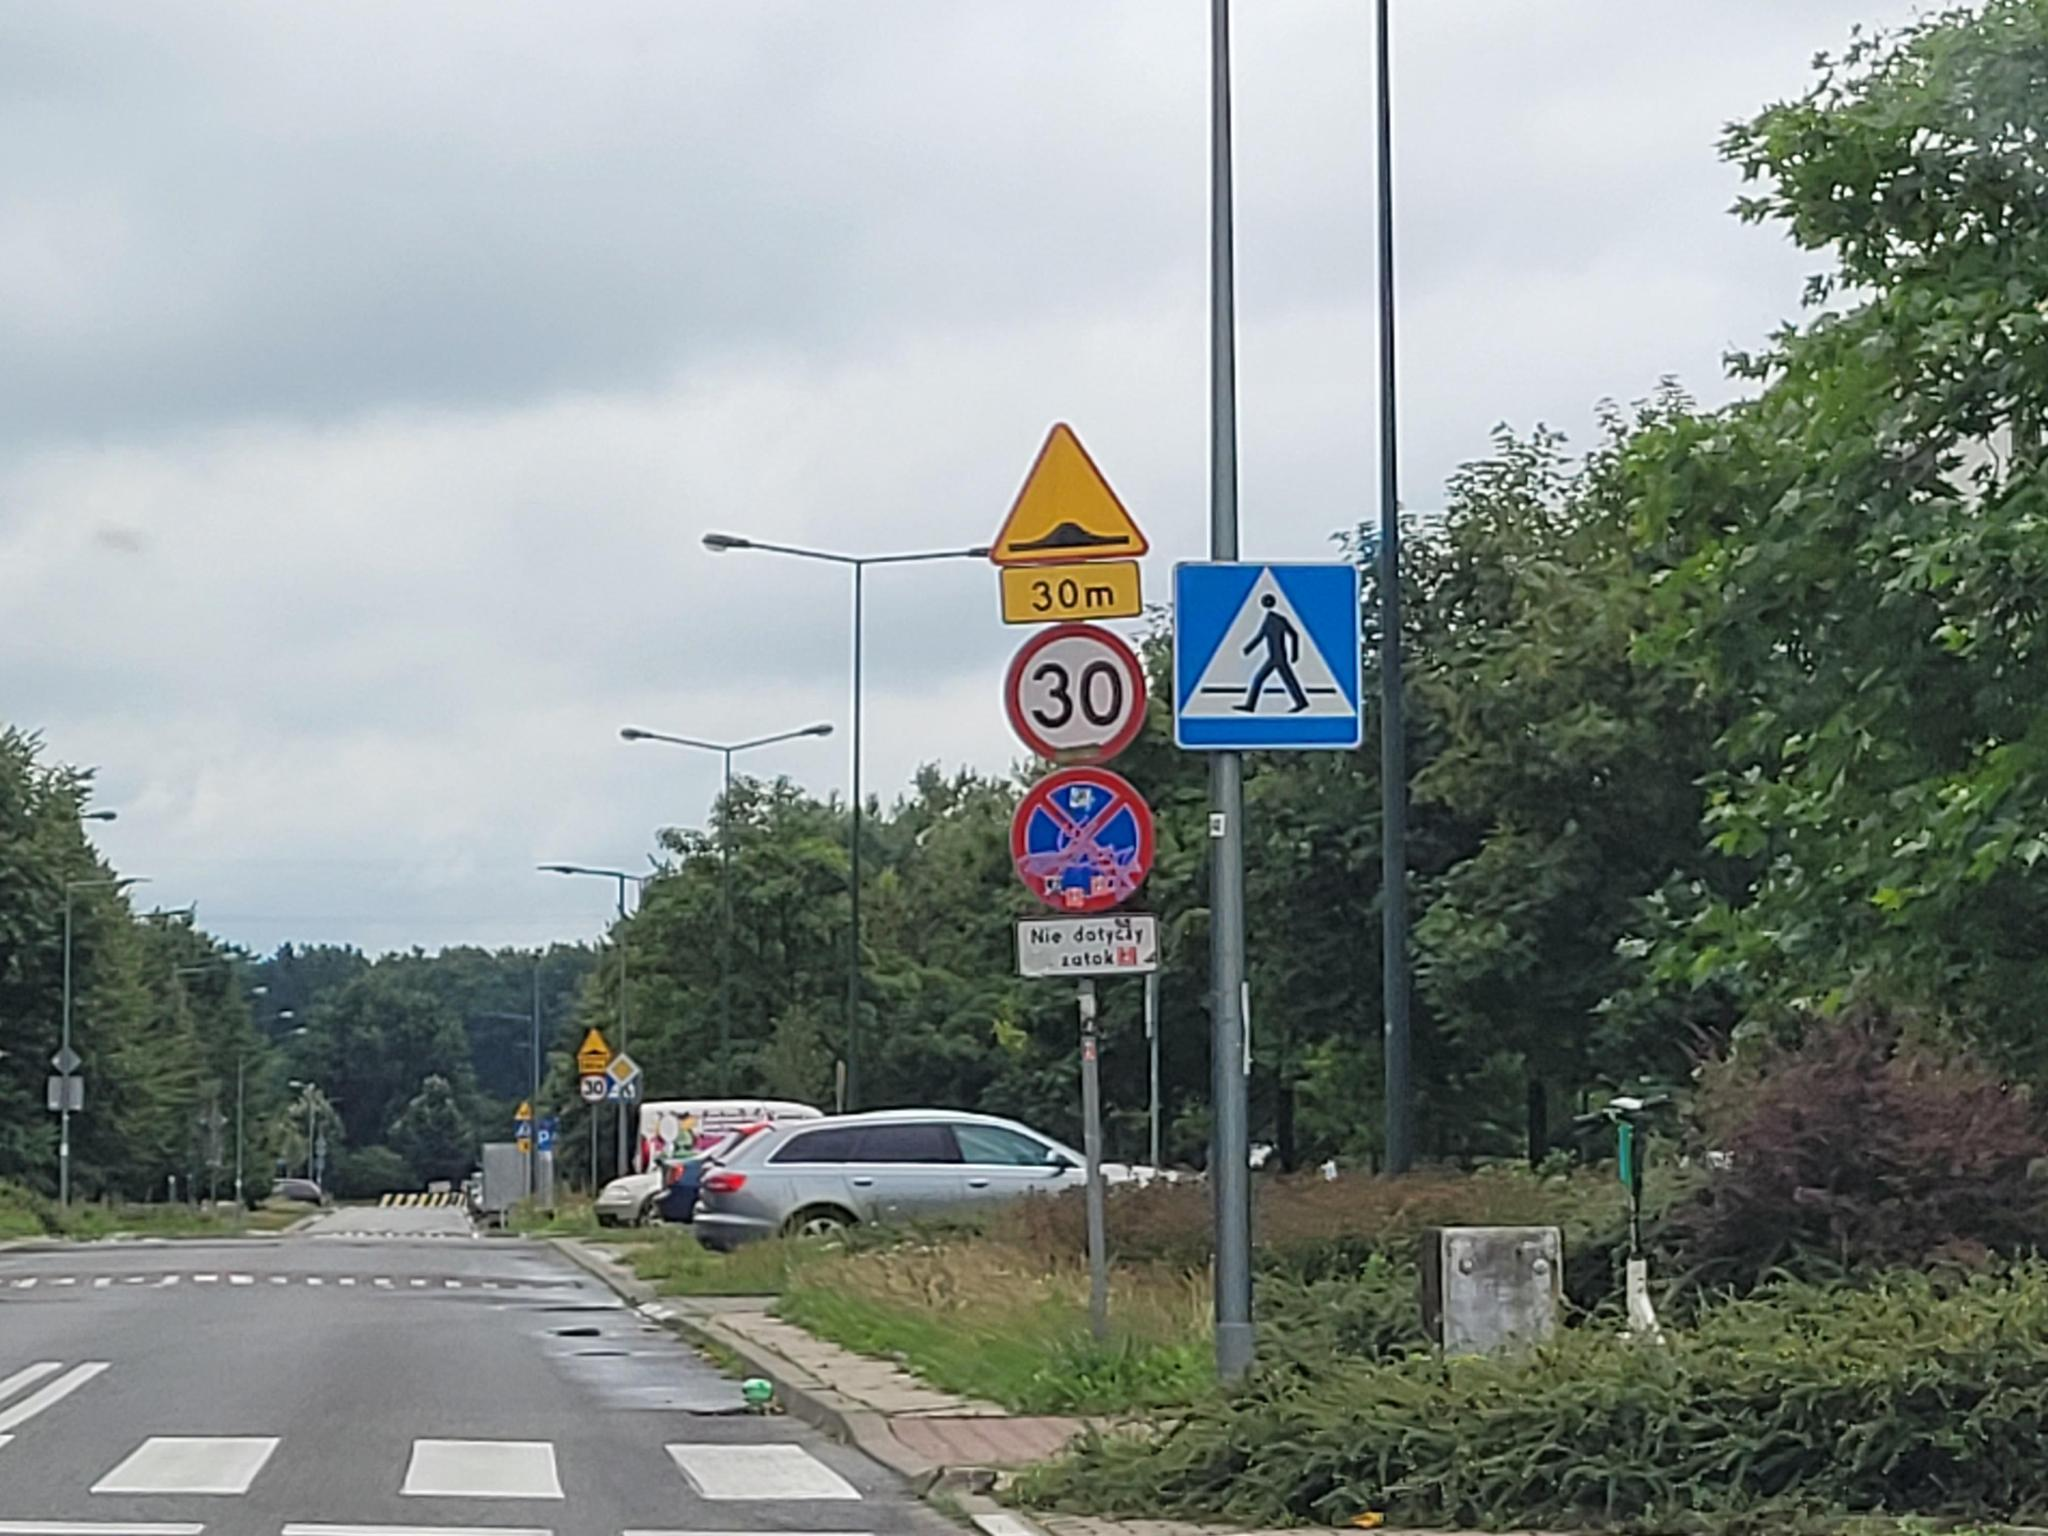information: (1174, 563, 1361, 747), (606, 1052, 640, 1086)
other: (1005, 563, 1142, 621)
prohibitory: (1008, 768, 1156, 913), (1005, 623, 1148, 765), (581, 1076, 608, 1102)
warning: (990, 419, 1150, 566), (577, 1029, 613, 1058)
